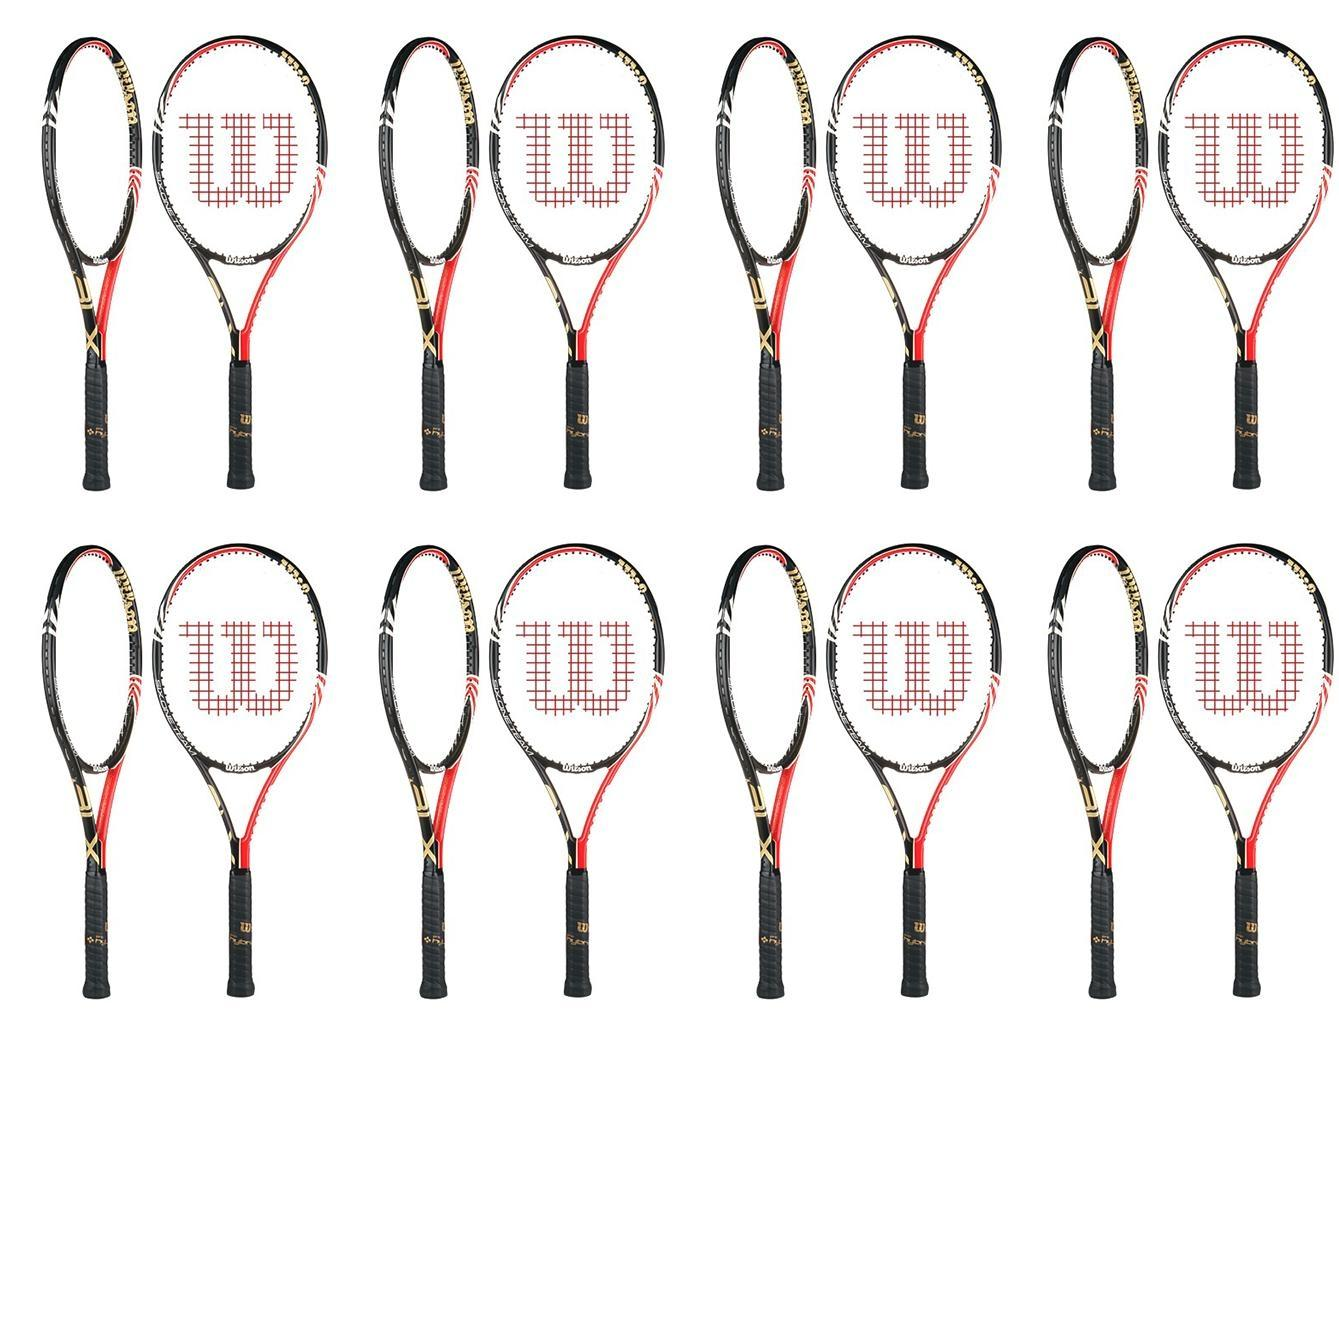Tennis-Racket: (1151, 34, 1330, 497), (1154, 549, 1334, 997), (154, 33, 327, 495), (492, 34, 663, 497), (154, 548, 325, 997), (497, 548, 665, 998), (841, 543, 1003, 1001), (847, 29, 998, 497), (1043, 37, 1149, 498), (378, 36, 479, 498), (1045, 548, 1149, 994), (40, 36, 140, 498), (378, 551, 479, 999), (40, 548, 141, 999), (717, 33, 813, 500), (719, 544, 813, 999)
